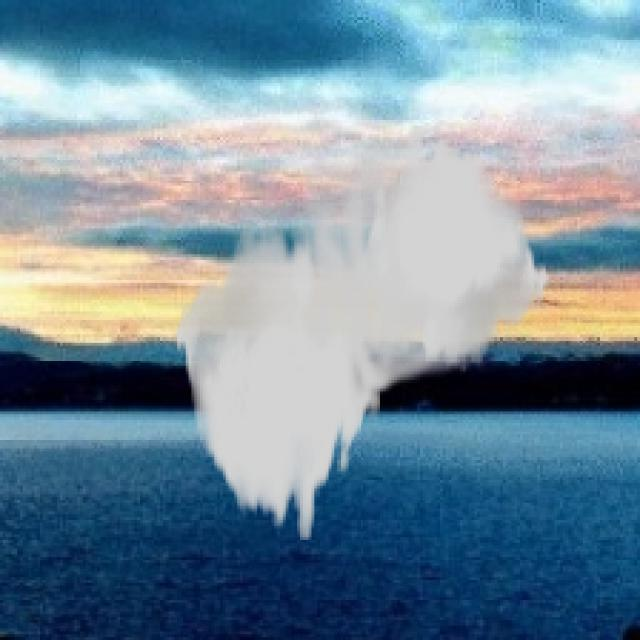Smoke: (174, 123, 552, 540)
